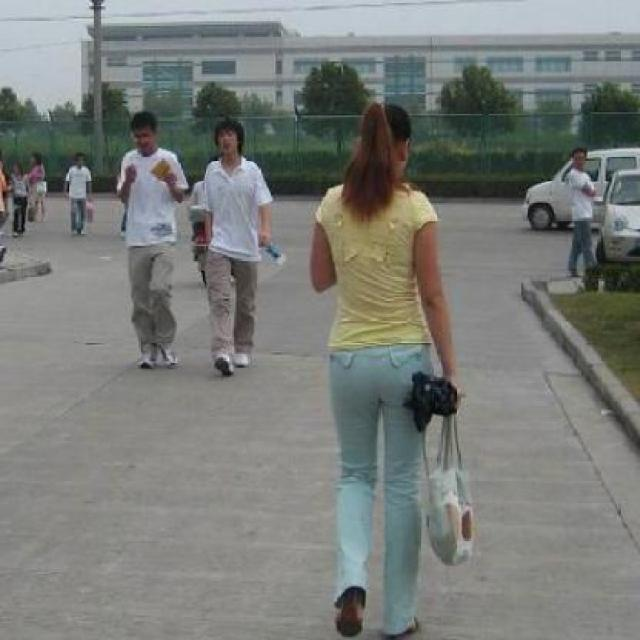obstacle: (309, 102, 465, 640), (190, 114, 278, 378), (120, 110, 192, 370), (563, 142, 602, 288), (58, 152, 97, 240), (0, 135, 18, 273)
